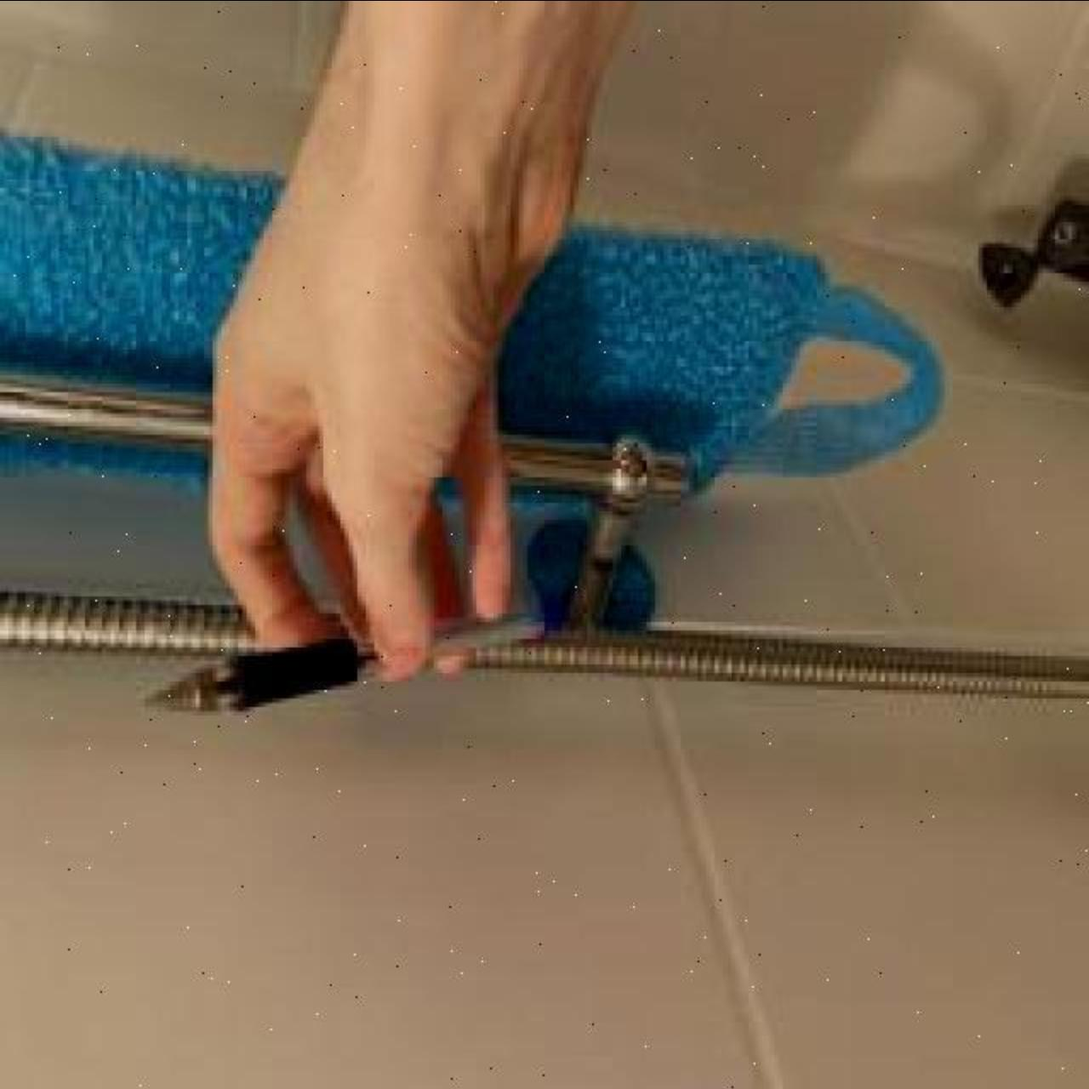pen: (141, 602, 575, 718)
